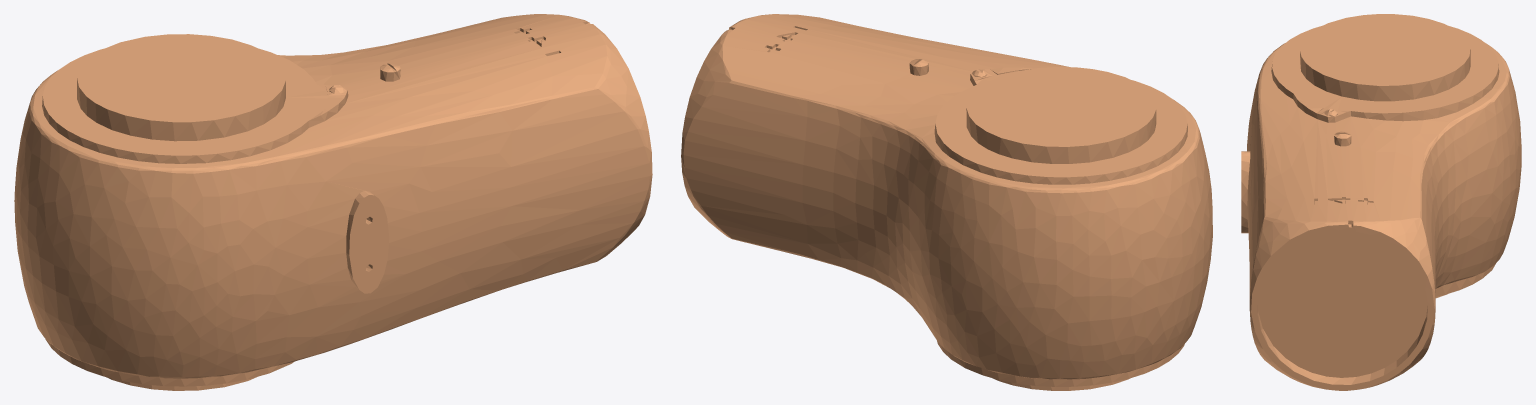
3 renders of one model, left to right at view 1: azimuth 30°, elevation 25°; view 2: azimuth 150°, elevation 25°; view 3: azimuth 270°, elevation 25°, orthographic. The views are drawn at different scales.
Parts seen in each view (by area): view 1: /Link_3/Link_3-mesh/0; view 2: /Link_3/Link_3-mesh/0; view 3: /Link_3/Link_3-mesh/0.
Boxes of the visible parts, x1,y1,x2,y2 form: /Link_3/Link_3-mesh/0: [14, 14, 652, 390]; /Link_3/Link_3-mesh/0: [681, 14, 1212, 390]; /Link_3/Link_3-mesh/0: [1241, 14, 1521, 390].
Size of the model in its own units: 0.295 by 0.142 by 0.1645.
